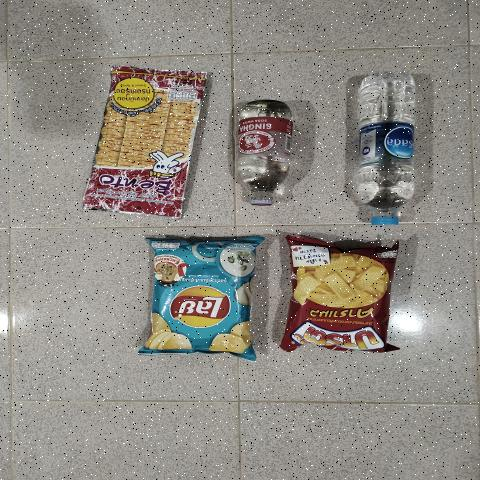bento_red: (99, 62, 199, 221)
crystal: (352, 71, 415, 229)
lay_blue: (153, 249, 249, 350)
party_red: (300, 244, 384, 351)
singha_soda: (231, 102, 292, 208)
